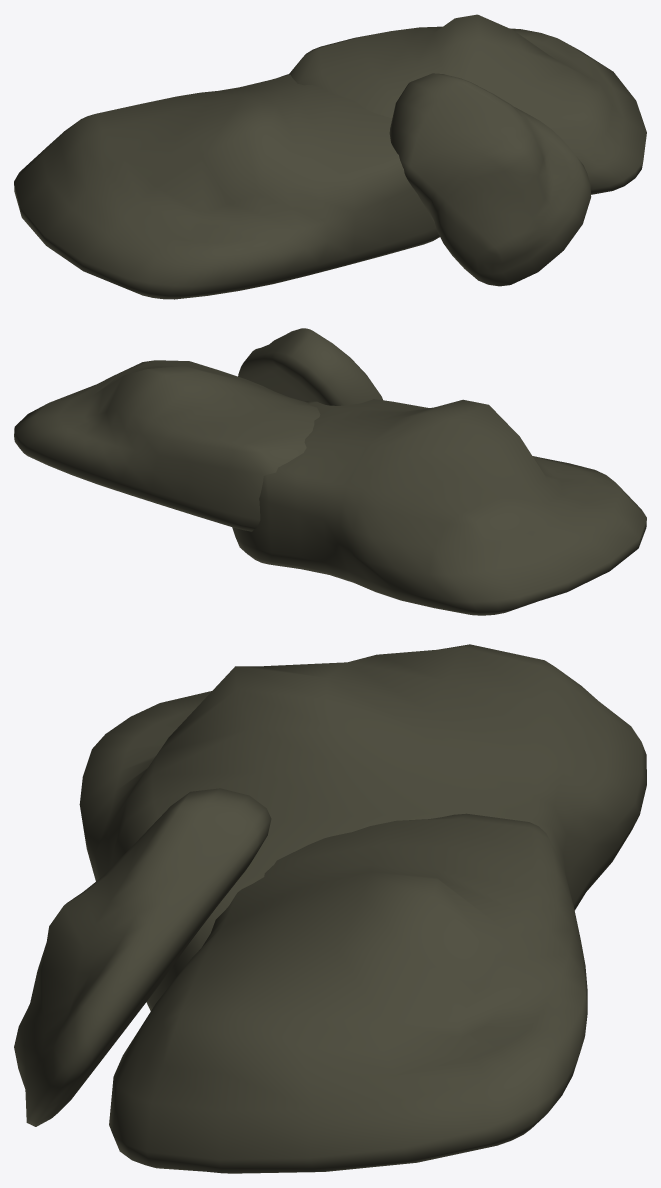
The model's file is rock3.fbx.
3 renders of one model, top to bottom at view 1: azimuth 30°, elevation 25°; view 2: azimuth 150°, elevation 25°; view 3: azimuth 270°, elevation 25°, orthographic. The views are drawn at different scales.
Visible parts, largest first — view 1: node_id78; view 2: node_id78; view 3: node_id78.
Boxes of the visible parts, x1,y1,x2,y2 form: node_id78: [14, 14, 646, 299]; node_id78: [14, 328, 646, 615]; node_id78: [14, 644, 646, 1173].
Size of the model in its own units: 0.512 by 0.1514 by 0.2805.
1 material, 1 textured.
